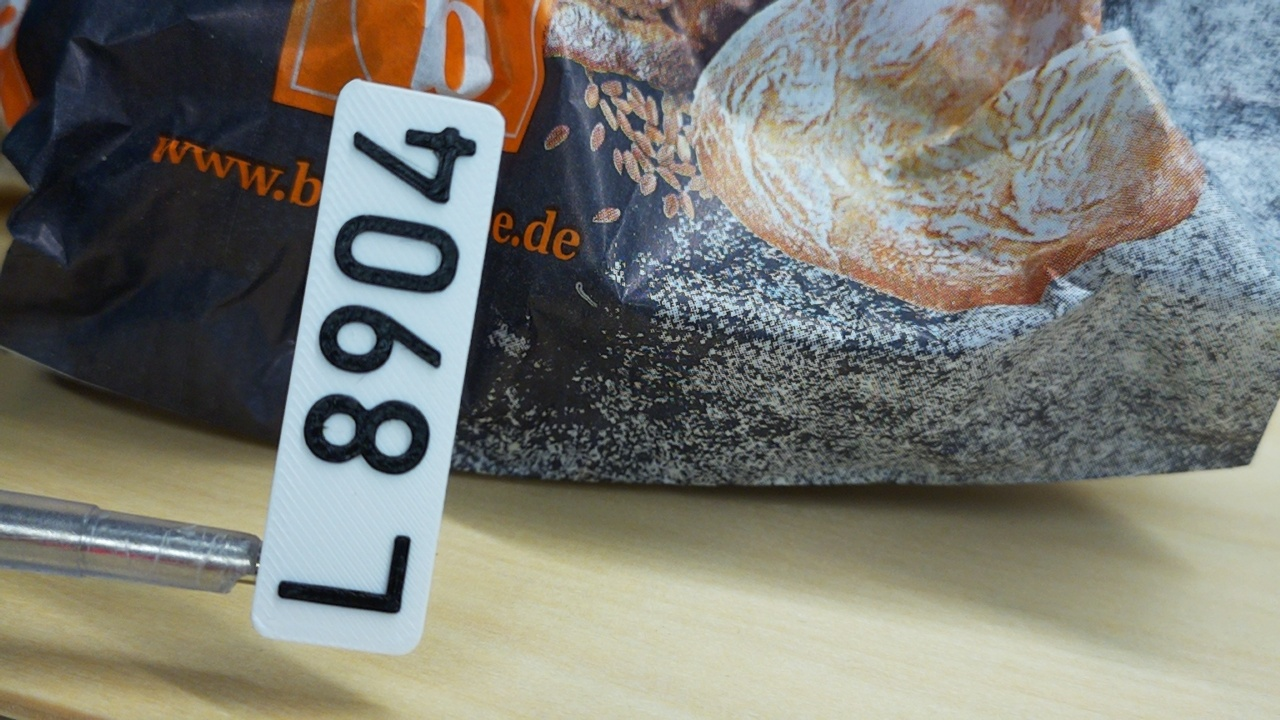license_plate: (252, 73, 510, 659)
